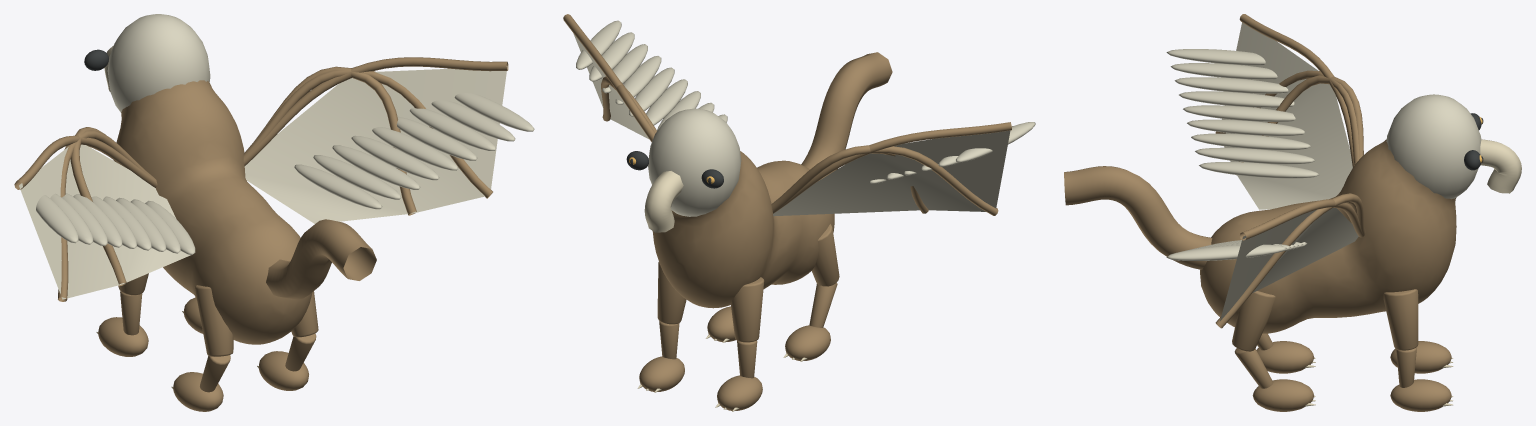
Rendered from griffin.glb.
The picture shows the model from 3 angles, left to right: view 1: azimuth 30°, elevation 25°; view 2: azimuth 150°, elevation 25°; view 3: azimuth 270°, elevation 25°; orthographic projection. The views are drawn at different scales.
Visible parts, largest first — view 1: Sculpted anatomy, Swept wing.001, Swept wing, Eagle feather crown, Flowing tail, Wing spar.003, Wing spar.004, Upper leg.001, Wing spar, Wing spar.005, Layered flight feather.010, Layered flight feather.011 (+25 smaller); view 2: Sculpted anatomy, Swept wing, Eagle feather crown, Flowing tail, Wing spar, Hooked golden beak, Upper leg, Wing spar.002, Paw.001, Paw, Paw.002, Wing spar.001 (+18 smaller); view 3: Sculpted anatomy, Swept wing, Eagle feather crown, Flowing tail, Swept wing.001, Upper leg.002, Upper leg.003, Hooked golden beak, Paw.003, Paw.002, Wing spar, Layered flight feather.002 (+18 smaller).
Boxes of the visible parts, x1=… form: Sculpted anatomy: x1=113, y1=80, x2=312, y2=344; Swept wing.001: x1=244, y1=66, x2=507, y2=223; Swept wing: x1=19, y1=144, x2=190, y2=299; Eagle feather crown: x1=107, y1=14, x2=210, y2=112; Flowing tail: x1=266, y1=219, x2=376, y2=299; Wing spar.003: x1=243, y1=57, x2=508, y2=165; Wing spar.004: x1=243, y1=70, x2=492, y2=198; Upper leg.001: x1=194, y1=285, x2=233, y2=356; Wing spar: x1=14, y1=135, x2=157, y2=189; Wing spar.005: x1=244, y1=66, x2=416, y2=215; Layered flight feather.010: x1=313, y1=155, x2=401, y2=199; Layered flight feather.011: x1=332, y1=145, x2=420, y2=189; Sculpted anatomy: x1=652, y1=151, x2=834, y2=308; Swept wing: x1=773, y1=130, x2=1010, y2=216; Eagle feather crown: x1=648, y1=108, x2=741, y2=216; Flowing tail: x1=801, y1=52, x2=892, y2=179; Wing spar: x1=773, y1=122, x2=1011, y2=213; Hooked golden beak: x1=644, y1=171, x2=683, y2=232; Upper leg: x1=730, y1=277, x2=764, y2=342; Wing spar.002: x1=771, y1=145, x2=928, y2=213; Paw.001: x1=785, y1=325, x2=830, y2=360; Paw: x1=717, y1=375, x2=762, y2=410; Paw.002: x1=639, y1=356, x2=684, y2=391; Wing spar.001: x1=784, y1=146, x2=998, y2=215; Sculpted anatomy: x1=1200, y1=139, x2=1456, y2=333; Swept wing: x1=1222, y1=22, x2=1352, y2=209; Eagle feather crown: x1=1386, y1=94, x2=1481, y2=199; Flowing tail: x1=1064, y1=166, x2=1212, y2=269; Swept wing.001: x1=1220, y1=208, x2=1358, y2=320; Upper leg.002: x1=1383, y1=289, x2=1418, y2=350; Upper leg.003: x1=1232, y1=291, x2=1275, y2=351; Hooked golden beak: x1=1480, y1=139, x2=1521, y2=193; Paw.003: x1=1252, y1=379, x2=1314, y2=411; Paw.002: x1=1390, y1=379, x2=1451, y2=411; Wing spar: x1=1239, y1=14, x2=1354, y2=167; Layered flight feather.002: x1=1191, y1=133, x2=1311, y2=150.
Size of the model in its own units: 3.23 by 1.99 by 2.83.
